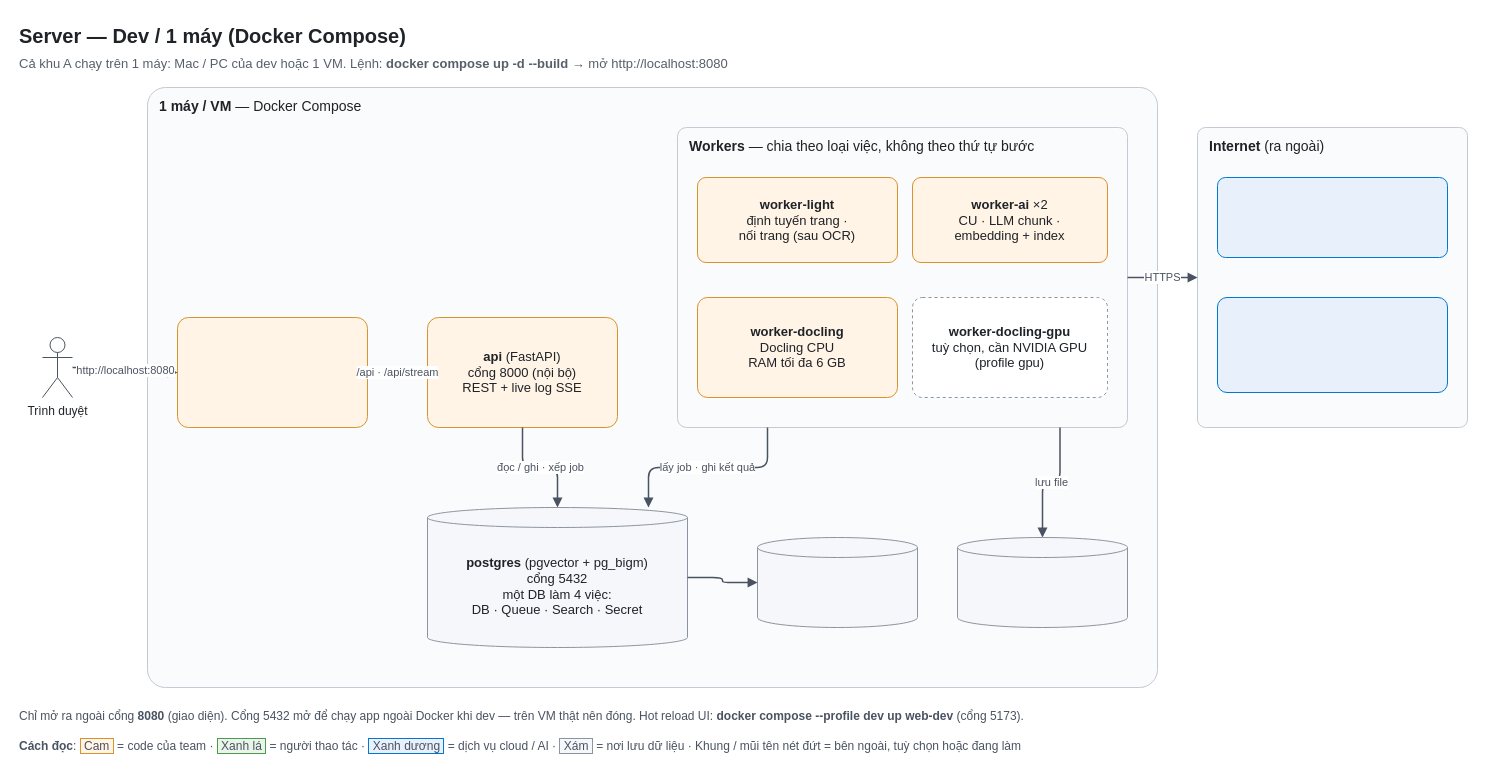
Image size: 1485x773. Some labels were removed from this diagram. Each missing label, with the centre of its shape:
Azure Content Understanding: the point at 1332,217
LLM / Embedding Azure OpenAI hoặc OpenAI-compatible: the point at 1332,344
volume blob PDF, ảnh trang, JSON: the point at 1042,582
volume pgdata dữ liệu Postgres: the point at 837,582
web (nginx) cổng 8080 → 80 trả giao diện React, chuyển /api sang api: the point at 272,372
